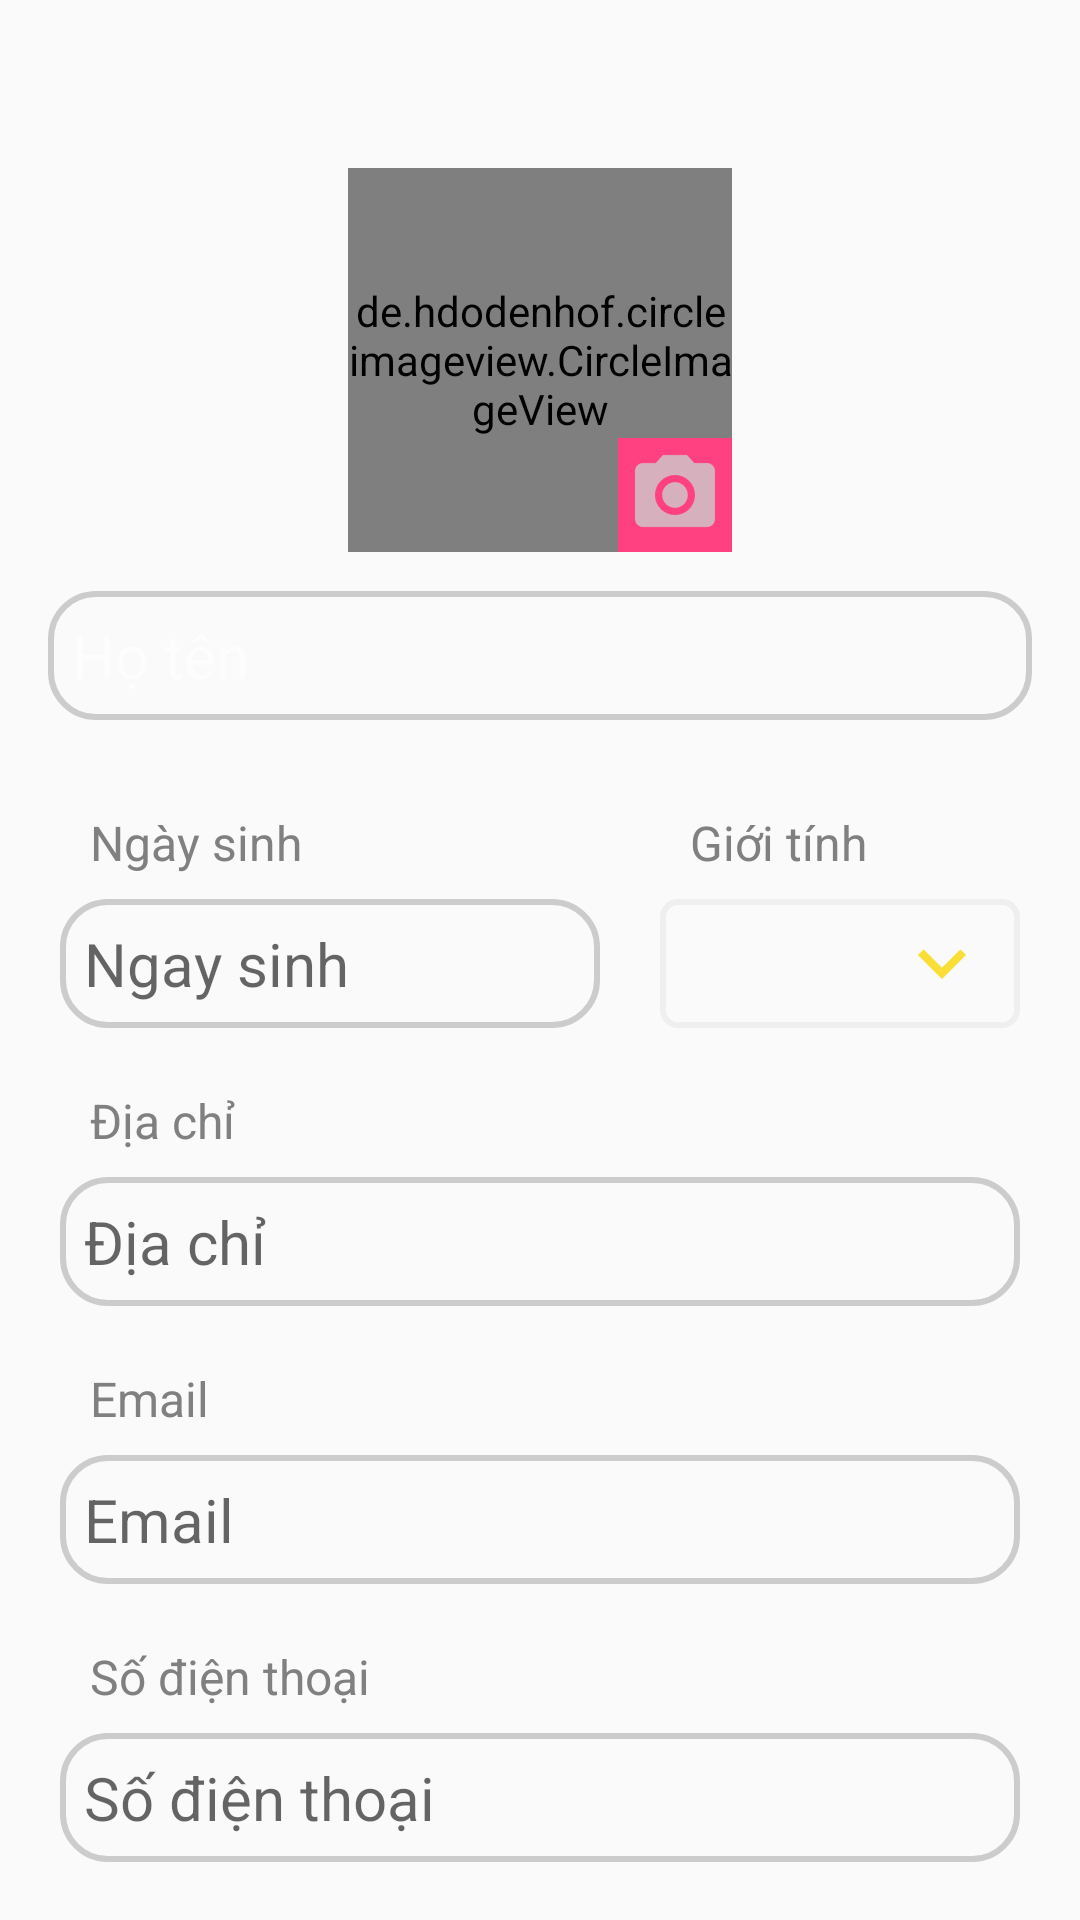

Screen size 1080x1920. Icon name, then its center in pixels as (x=x, y=y):
camera: (x=675, y=495)
